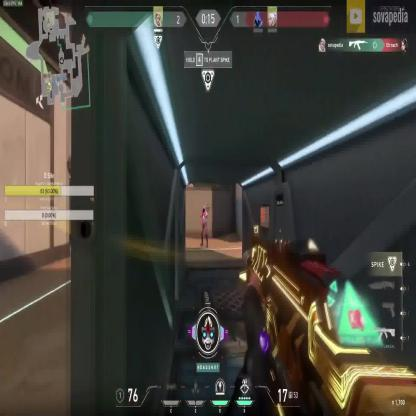enemy: (199, 203, 209, 249)
enemy_head: (202, 206, 206, 215)
